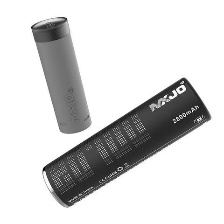battery: (36, 75, 216, 212), (28, 12, 93, 137)
